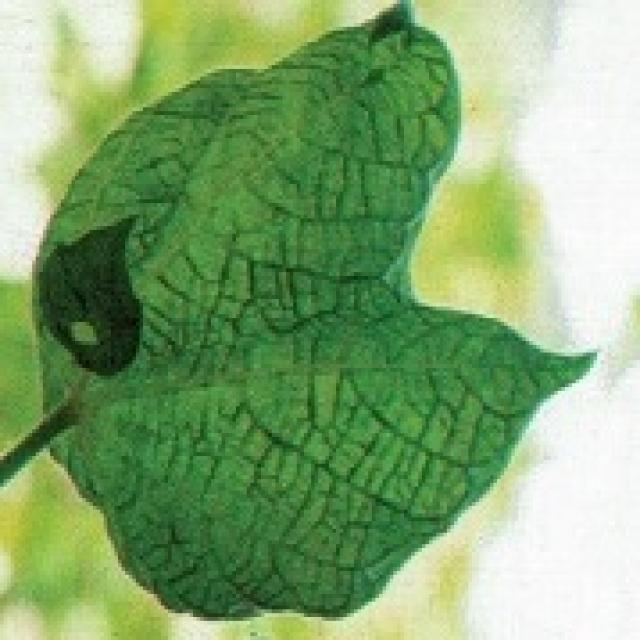Leaf Curl Virus: (48, 183, 366, 477)
